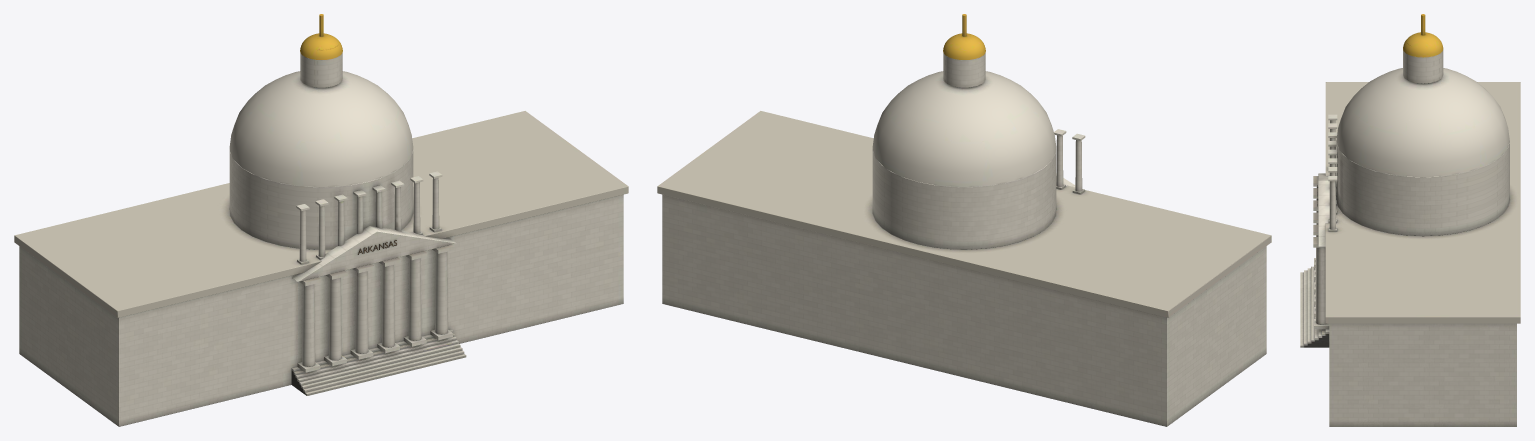
The model's file is capitolio_ar.glb.
The picture shows the model from 3 angles, left to right: view 1: azimuth 30°, elevation 25°; view 2: azimuth 150°, elevation 25°; view 3: azimuth 270°, elevation 25°; orthographic projection. The views are drawn at different scales.
Parts seen in each view (by area): view 1: capitolio_ar; view 2: capitolio_ar; view 3: capitolio_ar.
Part boxes in pixels (x1=…): capitolio_ar: x1=14, y1=14, x2=628, y2=426; capitolio_ar: x1=657, y1=14, x2=1271, y2=426; capitolio_ar: x1=1300, y1=14, x2=1520, y2=426.
Bounding box in the file's own units: 77 × 45.2 × 30.5.
1 material, 1 textured.
